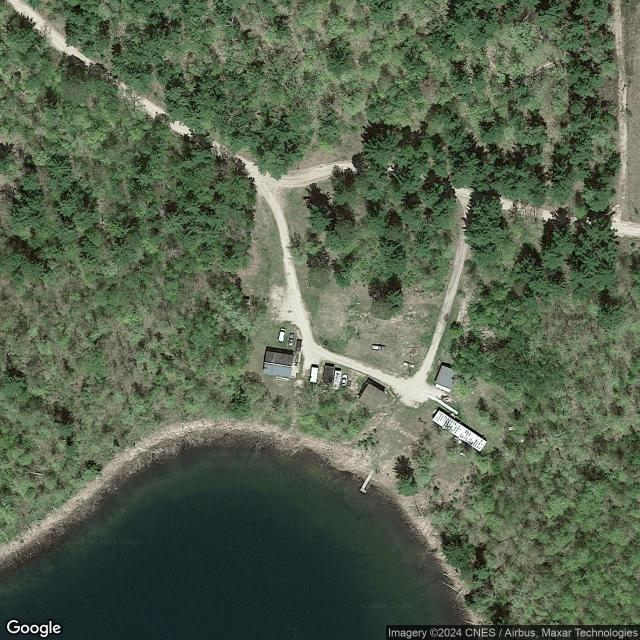Propane: (459, 450, 467, 459)
